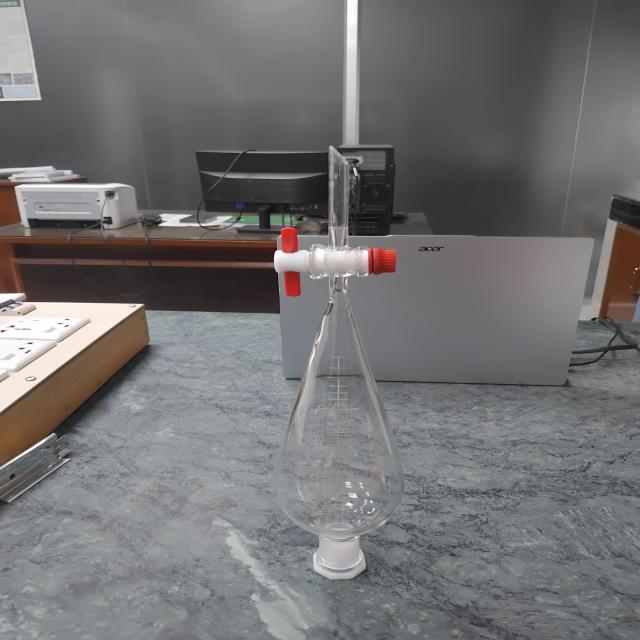Separating_Funnel: (248, 90, 444, 604)
